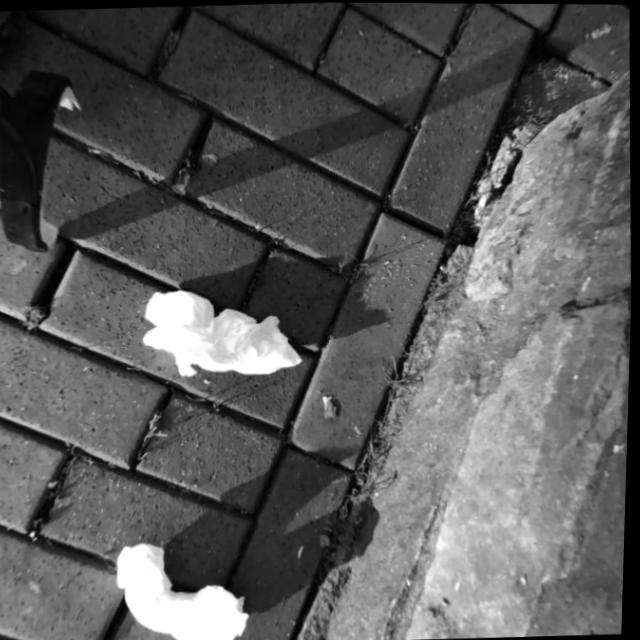Paper: (140, 281, 310, 384), (113, 535, 256, 640)
